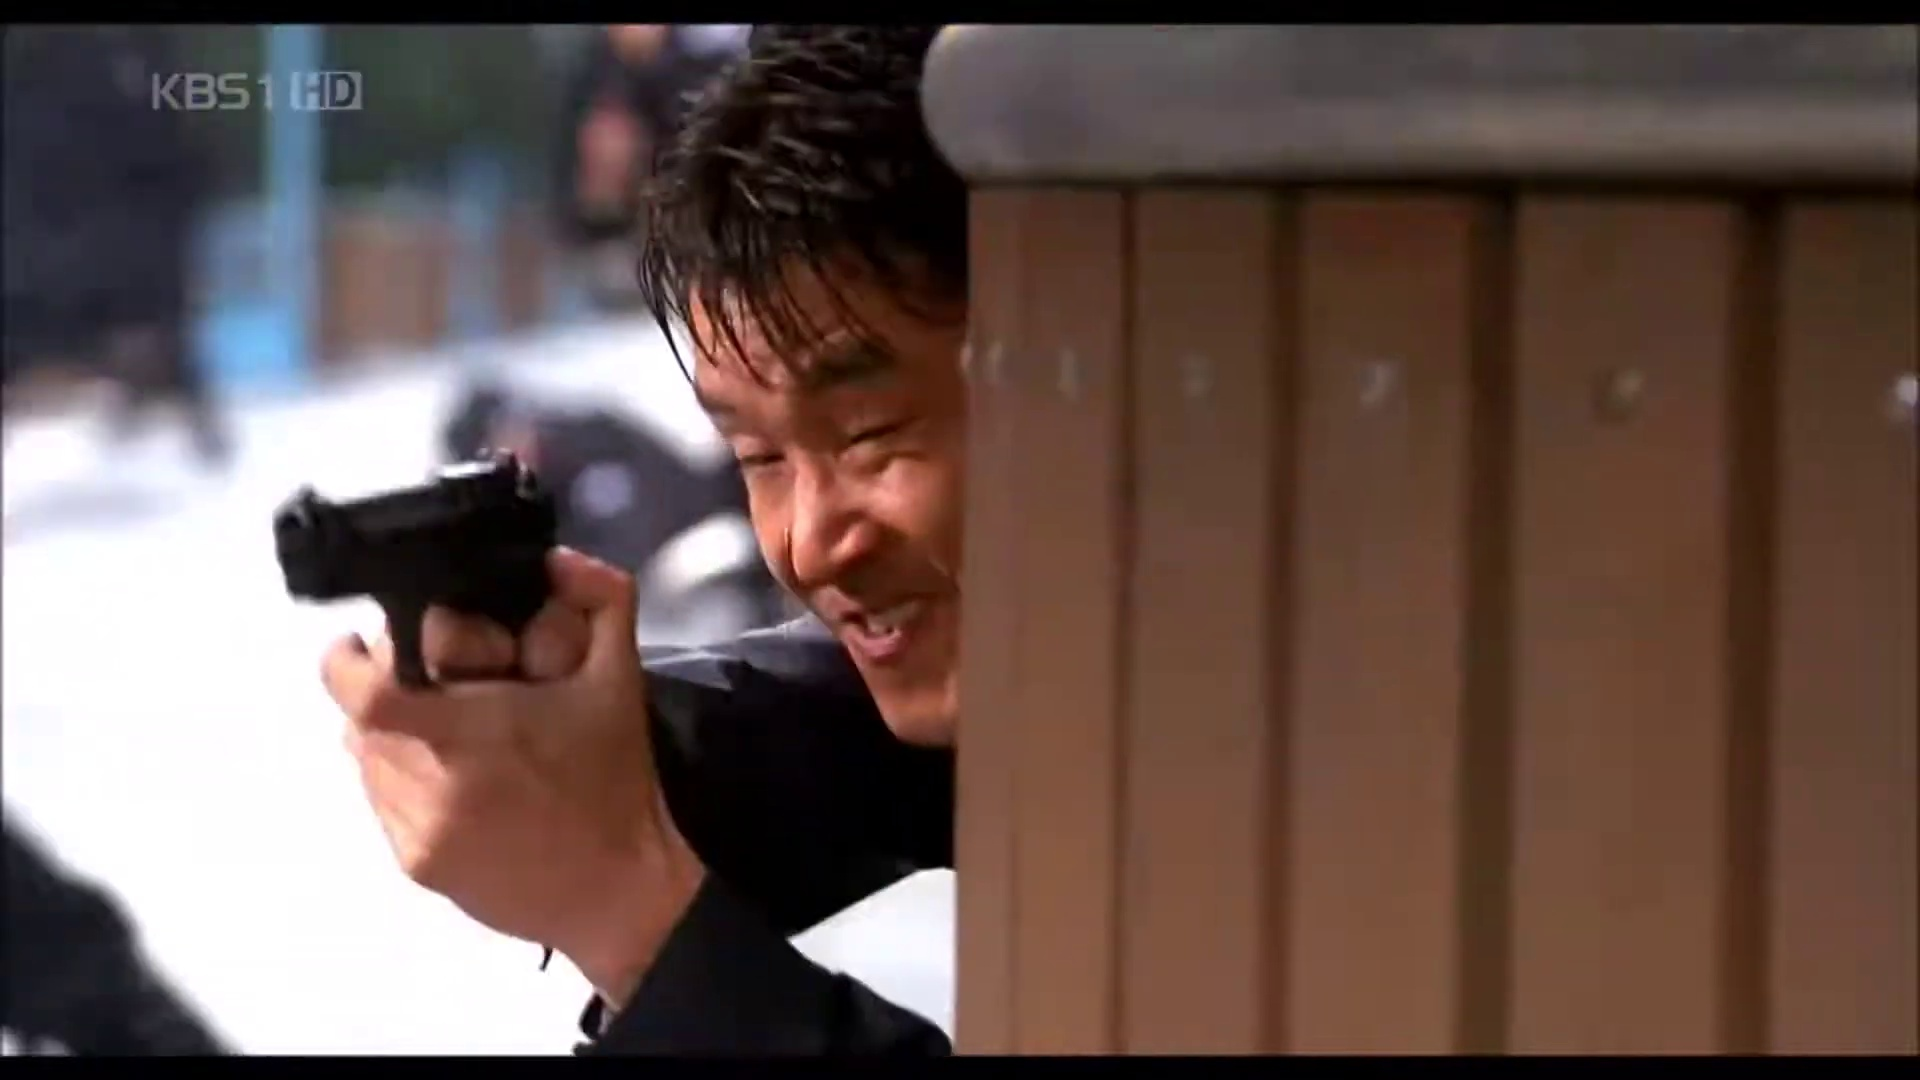gun: (266, 438, 572, 724)
p_w_gun: (326, 26, 996, 1051)
